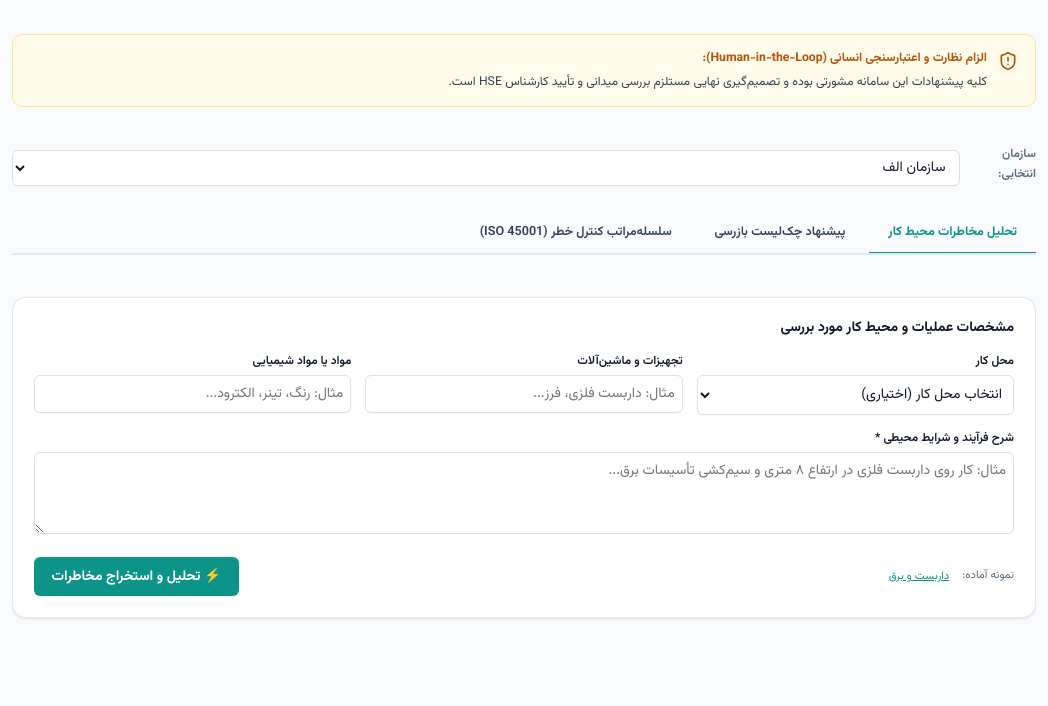
Test: AiAssistantPage › generates inspection checklist and hierarchy of controls
Checklist Tab
Click the button "پیشنهاد چک‌لیست بازرسی" at (780, 233), box [696,211,864,255]
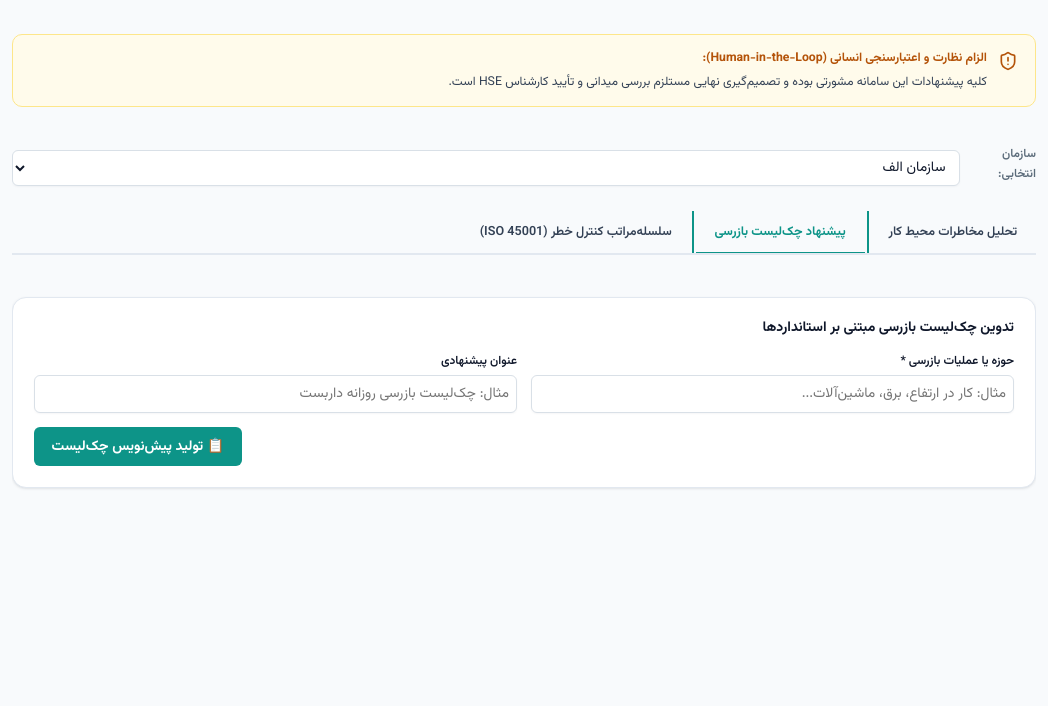
Type "کار در ارتفاع" into the field labelled "حوزه یا عملیات بازرسی *" at (772, 394), box [531,375,1014,413]
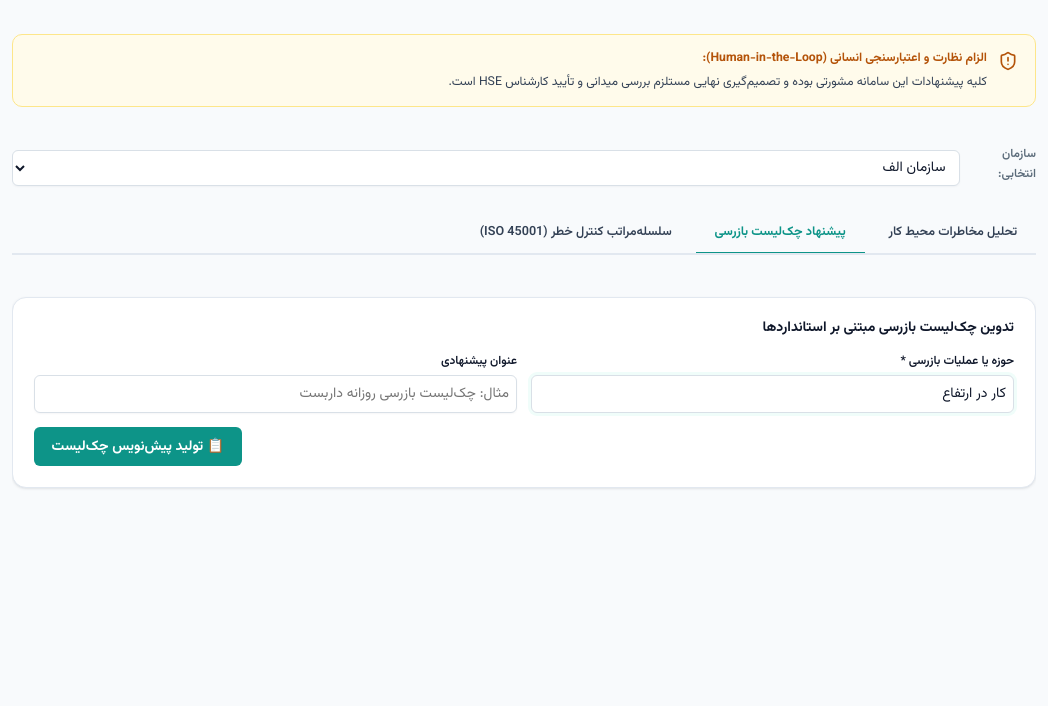
Click the button "📋 تولید پیش‌نویس چک‌لیست" at (138, 447), box [34,427,242,466]
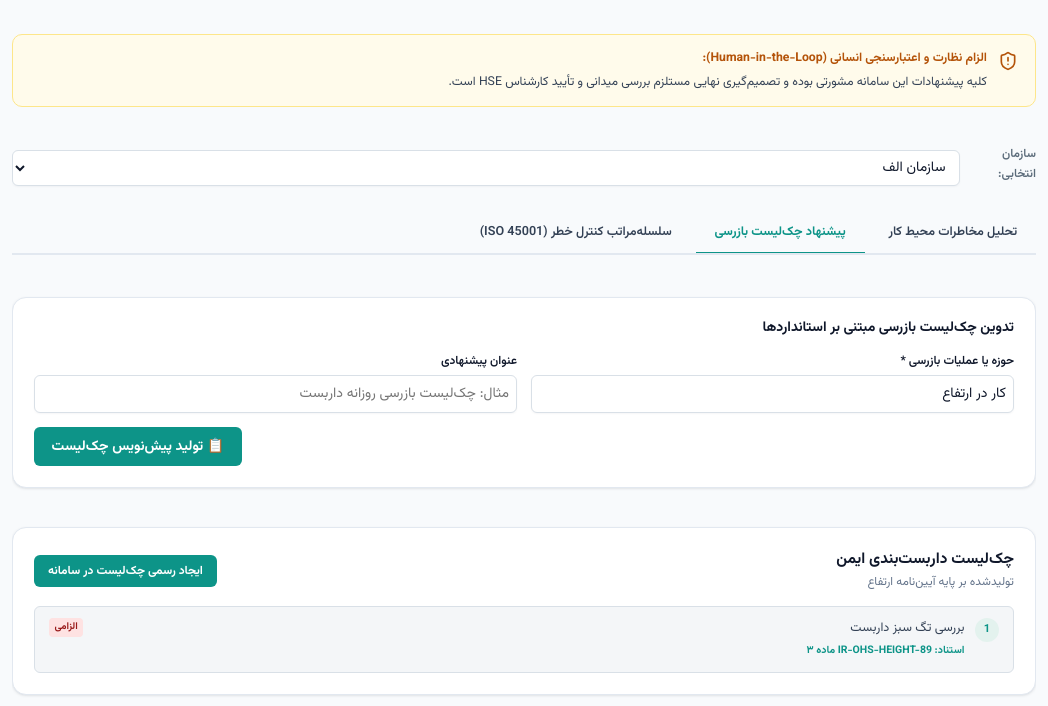
Expected: the heading "چک‌لیست داربست‌بندی ایمن" is shown, [836,548,1014,569]
Expected: the text "بررسی تگ سبز داربست" is shown, [850,618,964,638]
Hierarchy Tab
Click the button "سلسله‌مراتب کنترل خطر (ISO 45001)" at (576, 233), box [461,211,691,255]
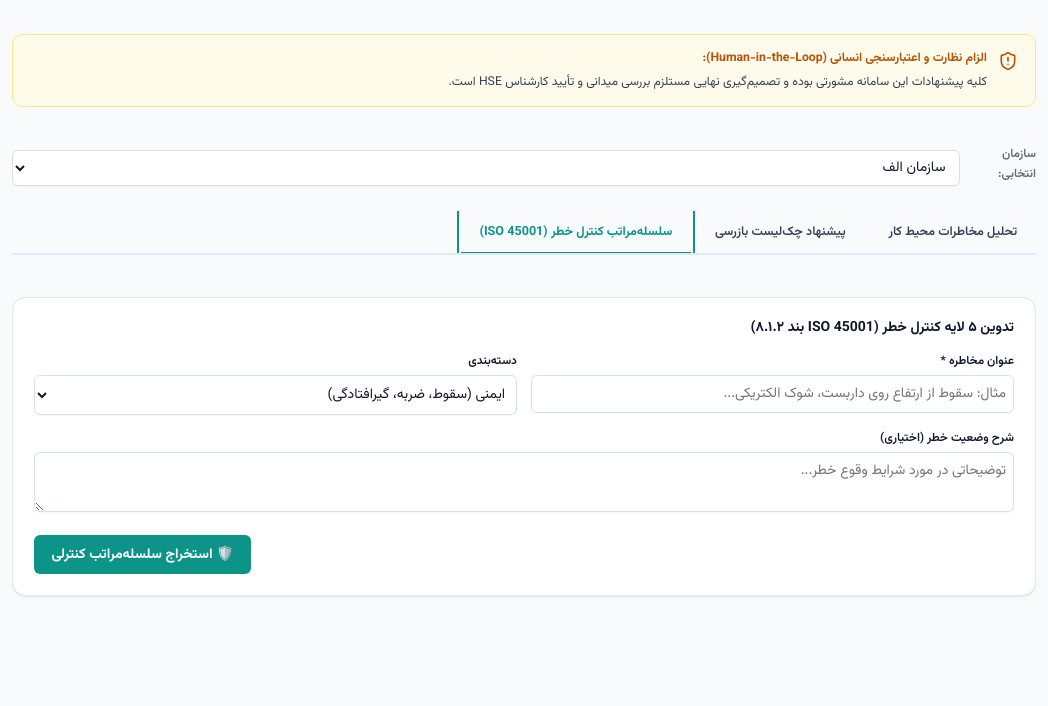
Type "برق‌گرفتگی در تابلوی توزیع" into the field labelled "عنوان مخاطره *" at (772, 394), box [531,375,1014,413]
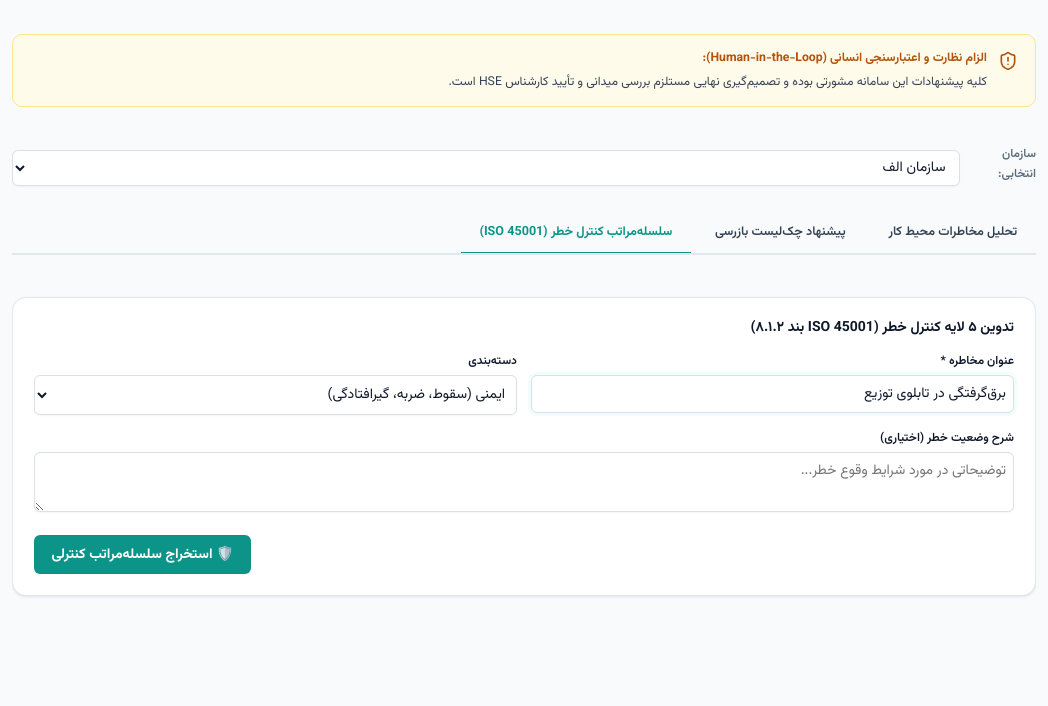
Click the button "🛡️ استخراج سلسله‌مراتب کنترلی" at (143, 555), box [34,536,251,574]
(page scrolled)
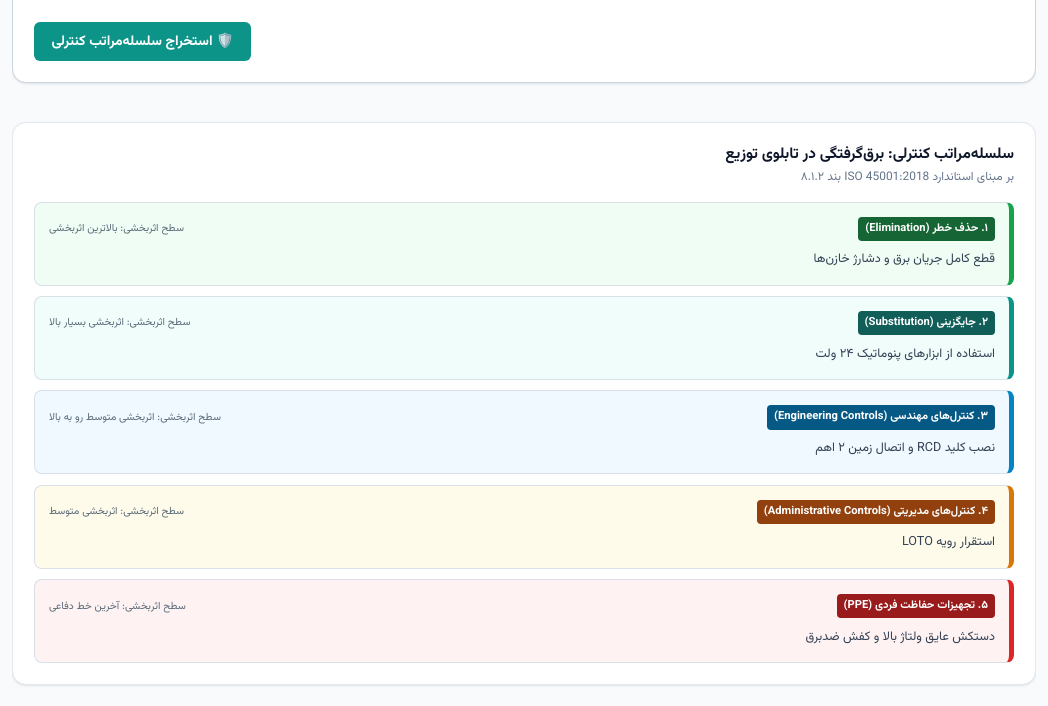
Expected: the heading "سلسله‌مراتب کنترلی: برق‌گرفتگی در تابلوی توزیع" is shown, [725,142,1014,166]
Expected: the text "۱. حذف خطر (Elimination)" is shown, [858,217,995,241]
Expected: the text "۵. تجهیزات حفاظت فردی (PPE)" is shown, [837,594,995,618]
